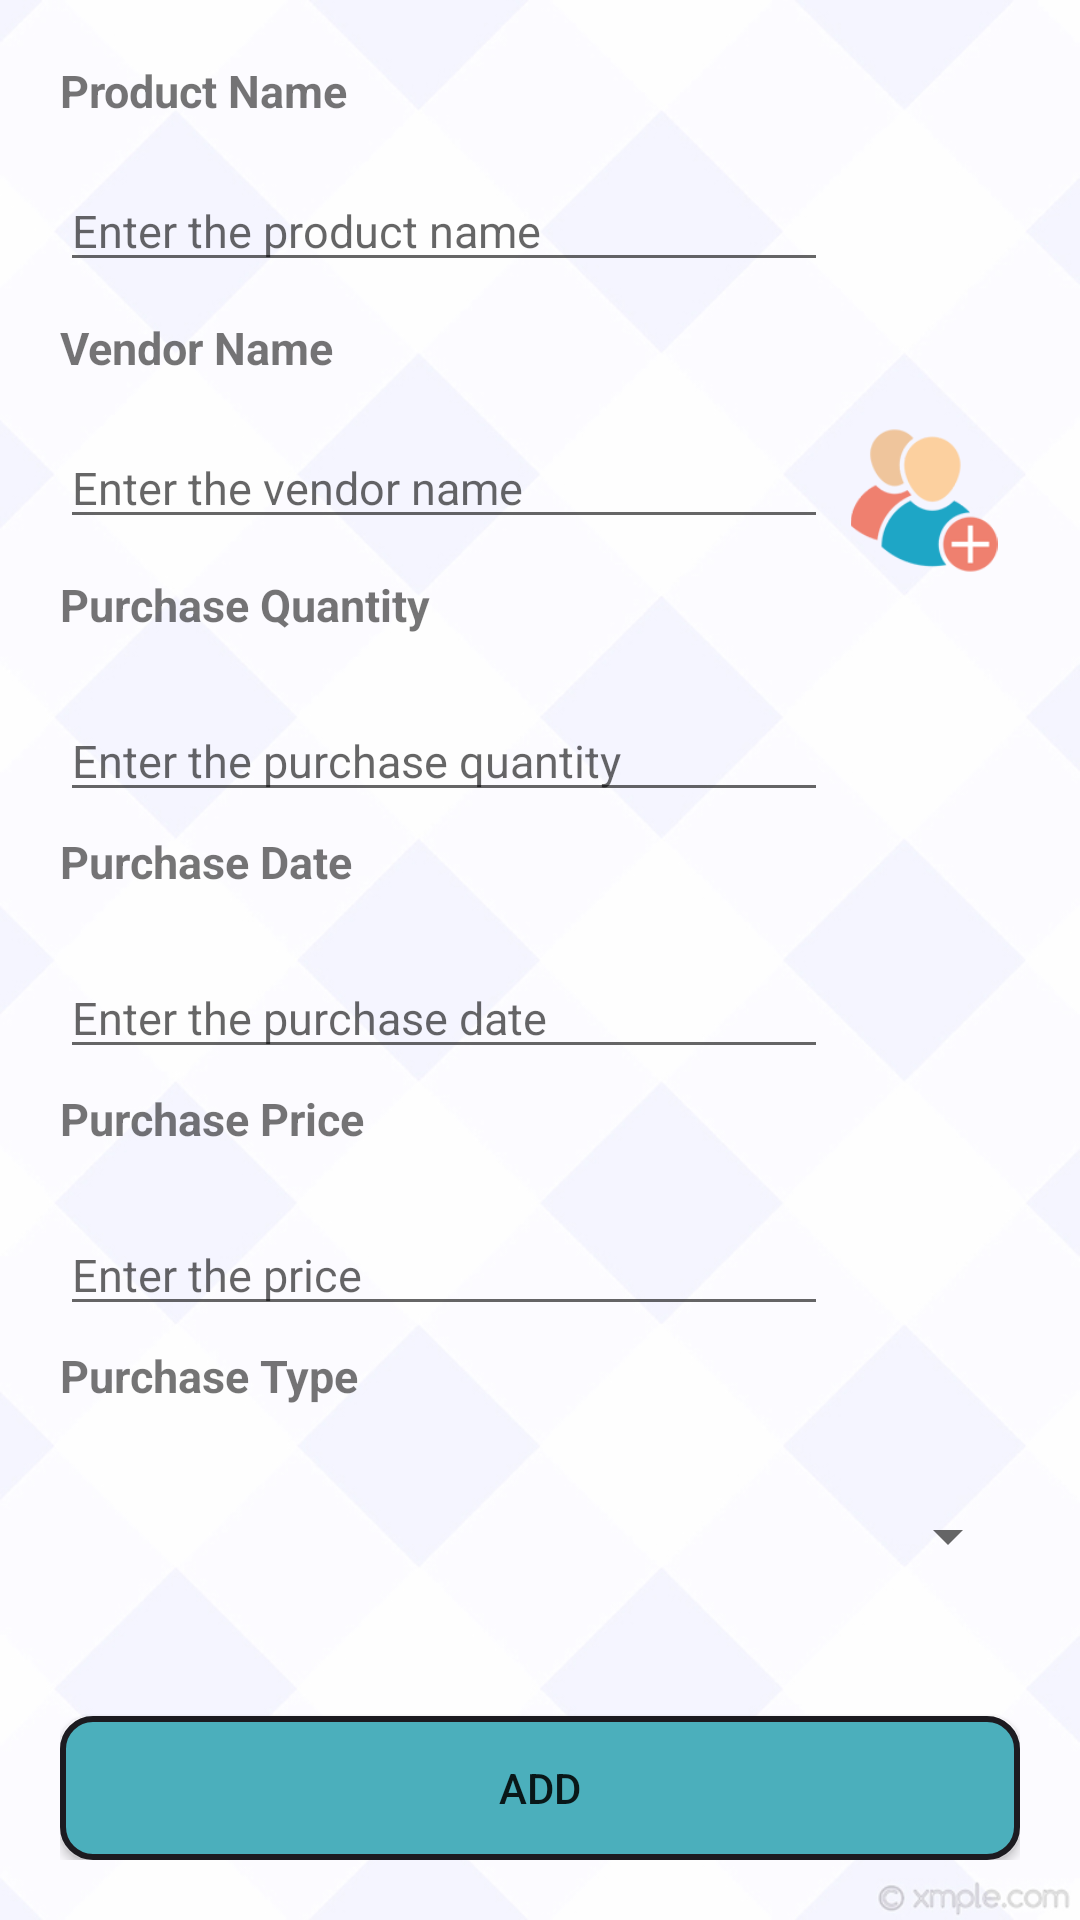

Where icons sit on this 1080×1920 app screen, as (x1, y1, x2, y2):
add vendor: (851, 429, 998, 572)
